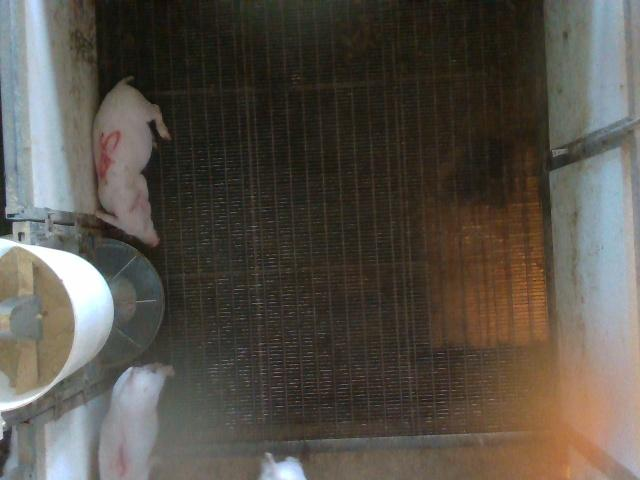pig-5: (94, 76, 170, 246), (100, 364, 174, 479)
